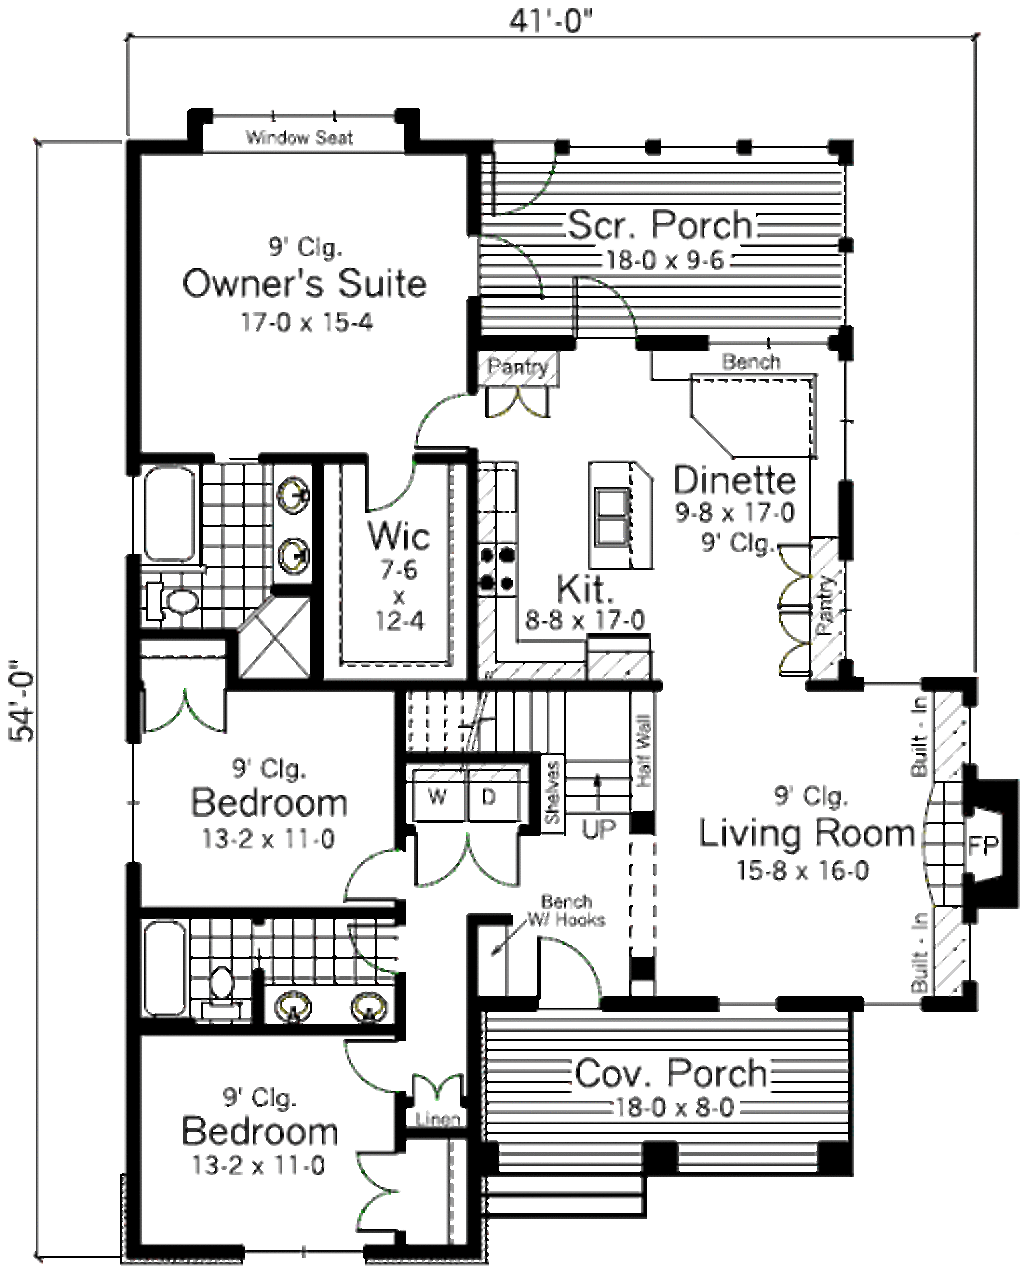door: (405, 826, 531, 892), (347, 1146, 429, 1238), (569, 269, 655, 352), (129, 682, 241, 744), (485, 140, 573, 218), (467, 230, 546, 306), (331, 844, 421, 906), (537, 930, 609, 1004), (333, 1034, 408, 1100), (355, 456, 421, 518), (403, 388, 469, 446), (771, 602, 815, 684), (339, 922, 401, 974), (773, 534, 811, 614), (405, 1060, 475, 1102), (479, 380, 551, 418)
kitchen_bar: (563, 432, 659, 588)
large_sink: (123, 568, 205, 626), (191, 960, 241, 1024)
small_sink: (265, 460, 309, 595), (269, 982, 393, 1024)
tub: (125, 912, 193, 1036), (141, 460, 205, 570)
twin_sink: (594, 476, 635, 554)
